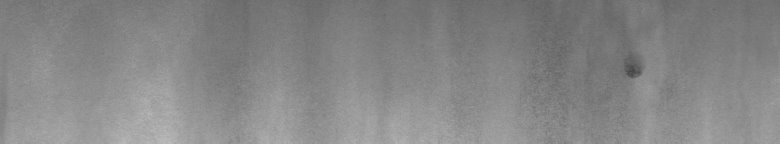fi: (625, 57, 644, 85)
